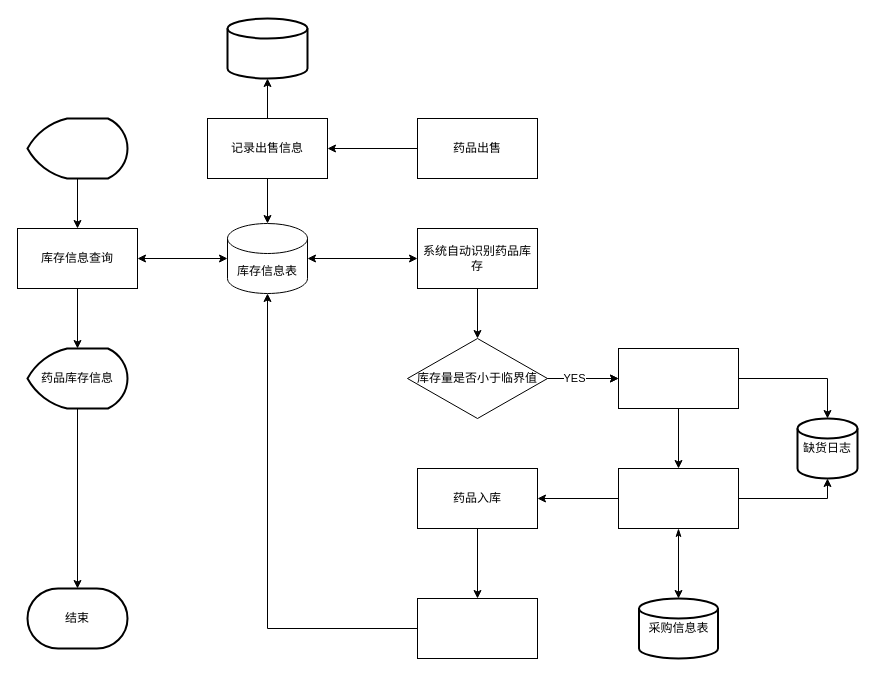
This 876x676 diagram has some shape labels left out. The centre of each missing label's shape, as x and y in pixels:
"库存盘点" belongs at point 77,148.
"提示库存不足" belongs at point 678,378.
"记录入库信息" belongs at point 477,628.
"采购药品" belongs at point 678,498.
"顾客信息表" belongs at point 267,48.
